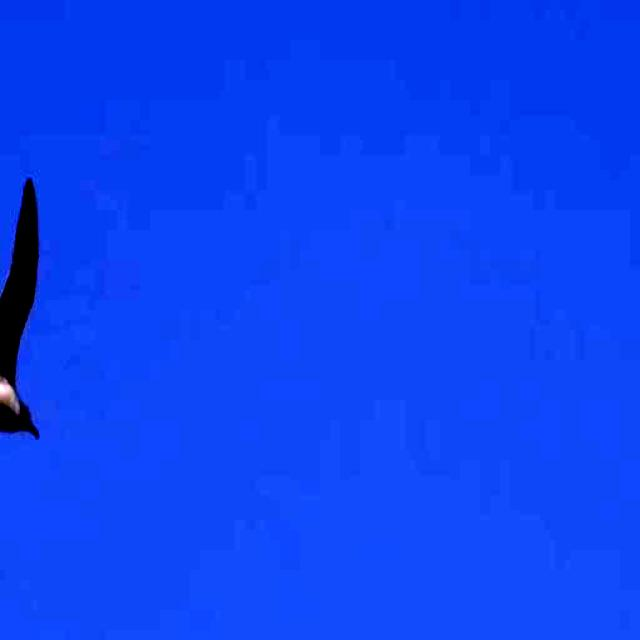airplane: (0, 172, 45, 481)
